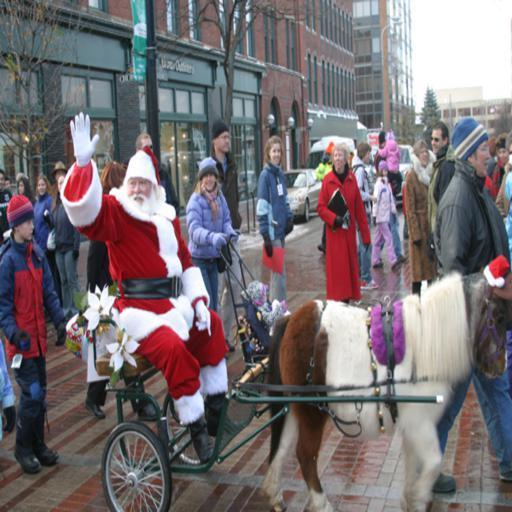horse: (258, 271, 507, 511)
